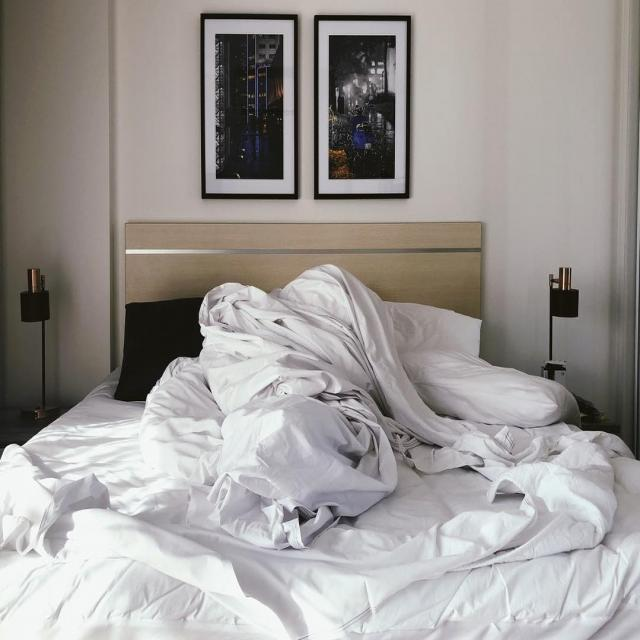bed: (0, 261, 636, 613)
